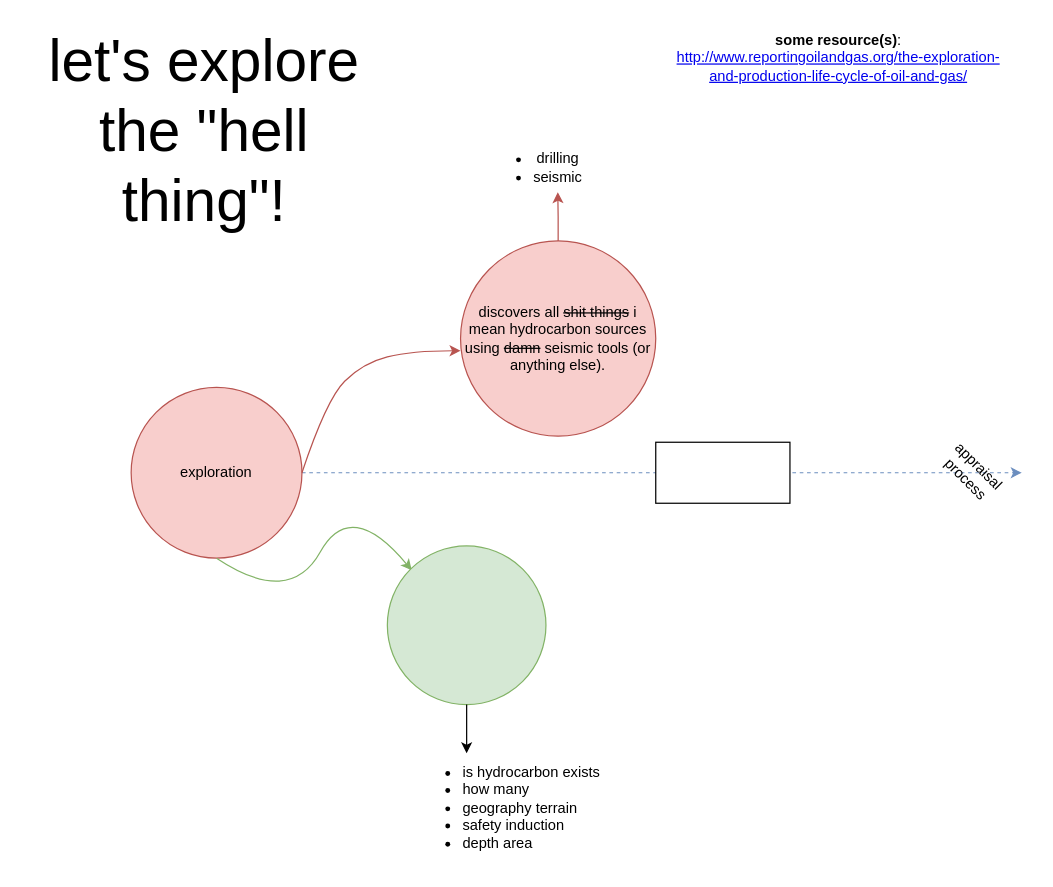
Image size: 1053x887. Some labels were removed from this diagram. Each missing label, with the box of its shape:
collect tons of damn core and fluid information to get:: (386, 545, 546, 705)
if exploration success: (655, 441, 790, 503)
